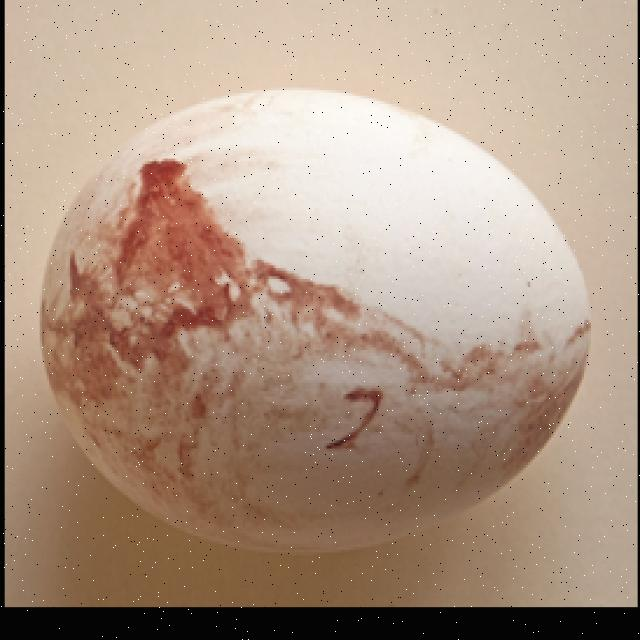Blood Stained Egg: (33, 82, 621, 571)
